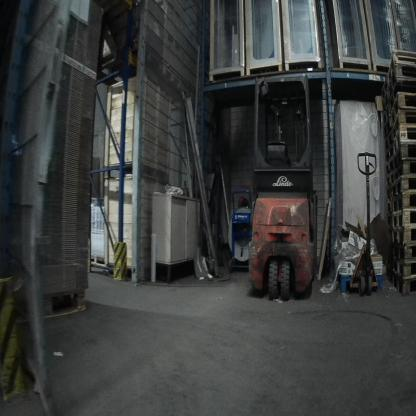forklift: (249, 73, 316, 301)
pallet: (103, 160, 170, 184), (41, 287, 86, 319), (387, 53, 416, 86), (391, 91, 416, 128), (339, 274, 384, 294), (390, 63, 416, 92), (394, 124, 416, 156), (393, 112, 416, 139), (392, 273, 416, 297), (395, 141, 416, 168), (158, 0, 183, 22), (391, 242, 416, 263), (392, 191, 416, 212), (162, 64, 182, 89), (392, 258, 416, 278), (163, 30, 182, 55), (392, 226, 416, 245), (145, 47, 162, 73), (395, 159, 416, 180), (393, 175, 416, 194), (393, 209, 416, 226), (385, 144, 395, 166), (384, 130, 394, 151), (385, 157, 395, 176), (383, 103, 391, 125), (384, 114, 391, 139), (381, 78, 389, 99), (385, 170, 395, 186), (383, 87, 391, 107), (91, 256, 105, 266), (383, 98, 391, 115), (385, 185, 393, 201), (386, 214, 393, 227), (386, 201, 392, 214)
pallet_truck: (348, 151, 379, 296)
